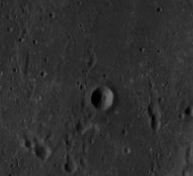crater: (81, 71, 136, 132)
